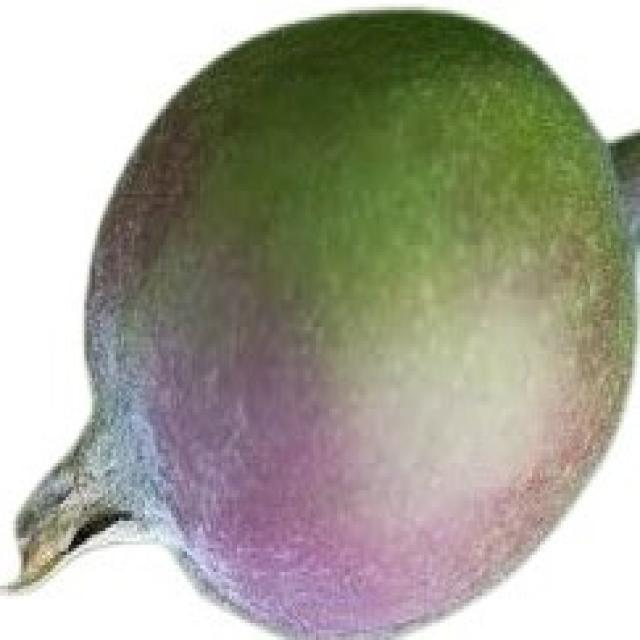20-_ripeness: (0, 11, 640, 628)
